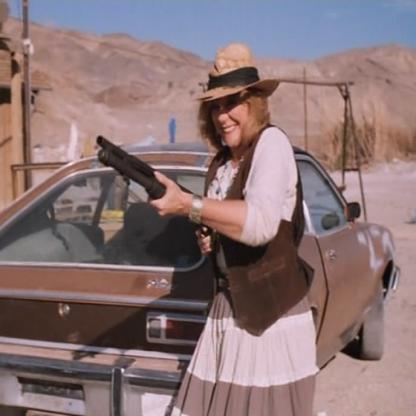gun: (93, 127, 199, 230)
